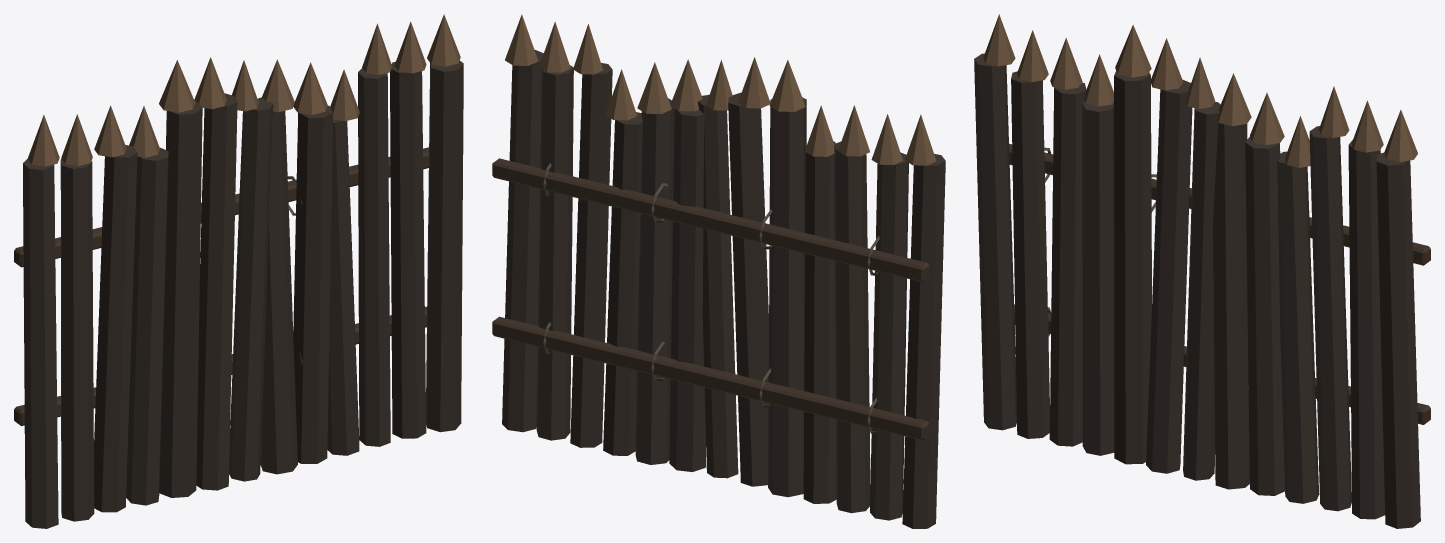
Rendered from palisade_fence.glb.
3 views of the same model, side by side, from view 1: azimuth 30°, elevation 25°; view 2: azimuth 150°, elevation 25°; view 3: azimuth 330°, elevation 25° (orthographic).
Parts seen in each view (by area): view 1: palisade_fence; view 2: palisade_fence; view 3: palisade_fence.
Boxes of the visible parts, left/top/right/bottom form: palisade_fence: left=14, top=14, right=463, bottom=528; palisade_fence: left=492, top=14, right=945, bottom=528; palisade_fence: left=974, top=14, right=1430, bottom=528.
Size of what is drawn, in the model's own units: 4.03 by 3.8 by 0.4738.
